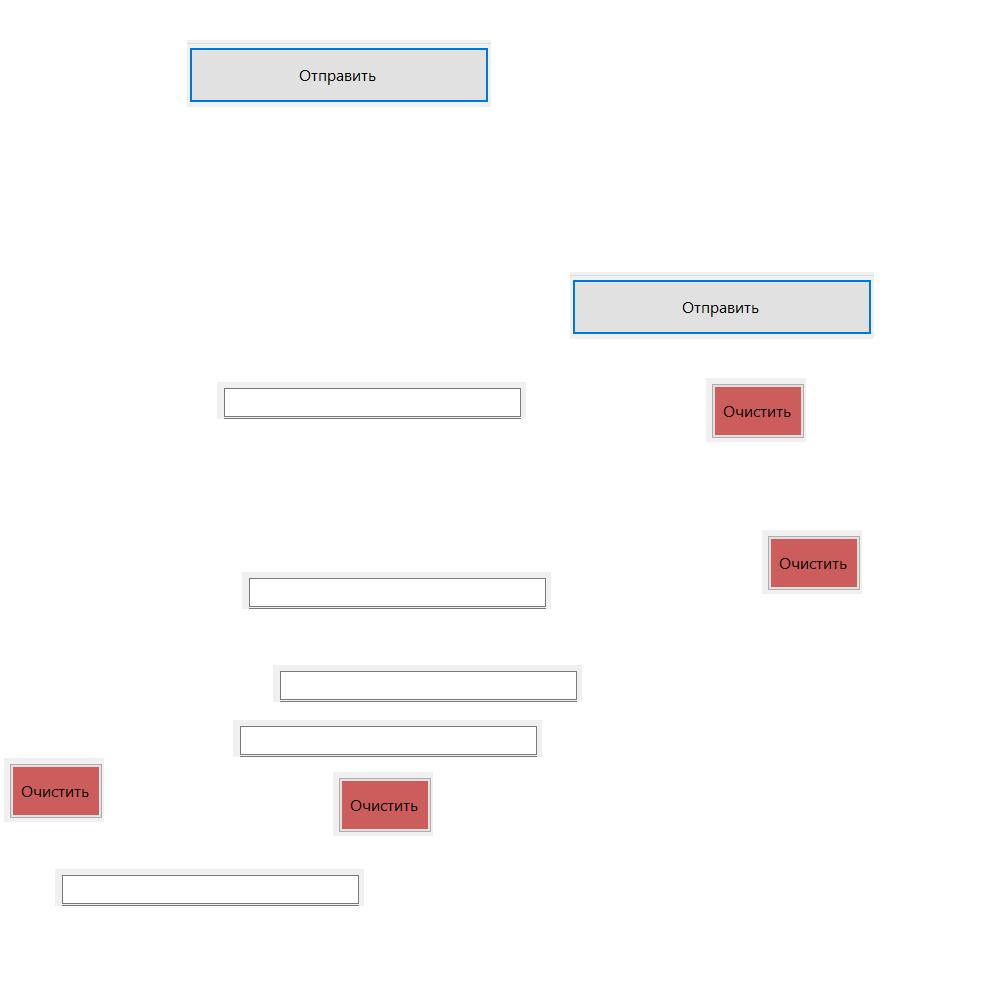Button: (570, 272, 874, 339), (187, 40, 491, 107), (4, 758, 104, 822), (706, 378, 806, 442), (762, 530, 862, 594), (333, 772, 433, 836)
EditText-: (233, 720, 542, 757), (273, 665, 582, 702), (55, 869, 364, 906), (217, 382, 526, 419), (242, 572, 551, 609)
